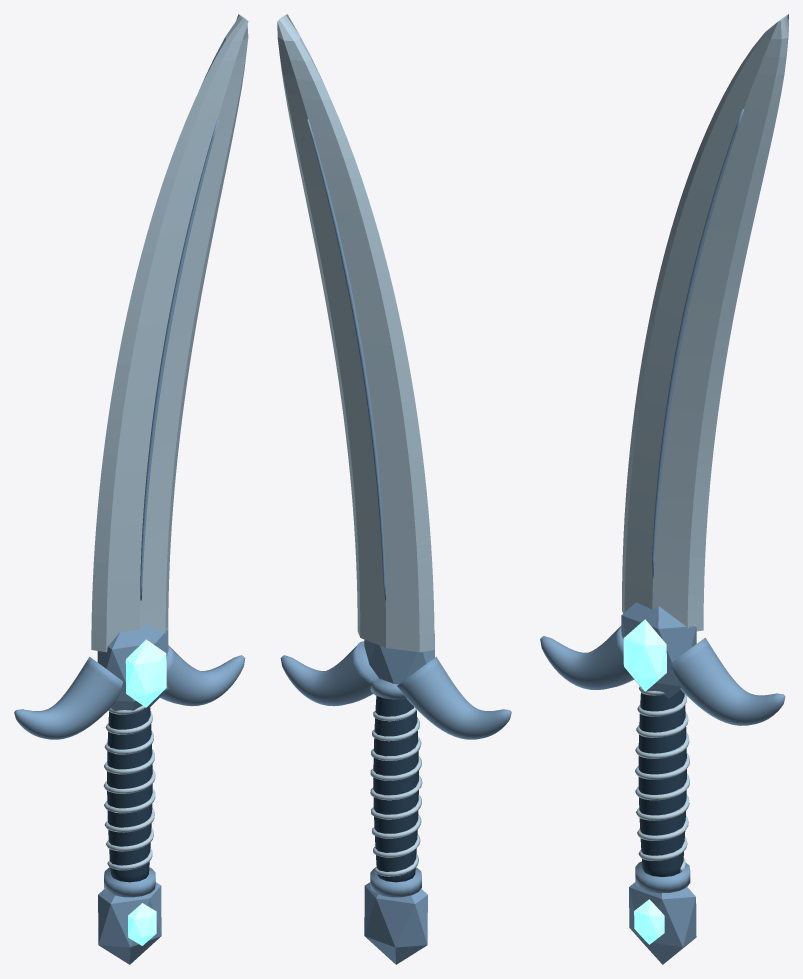
The model's file is frost_steel_saber.glb.
3 renders of one model, left to right at view 1: azimuth 30°, elevation 25°; view 2: azimuth 150°, elevation 25°; view 3: azimuth 330°, elevation 25°, orthographic. The views are drawn at different scales.
Parts seen in each view (by area): view 1: Froststeel Saber blade, Tapered leather grip.003, Swept guard wing.006, Faceted pommel.003, Swept guard wing.007, Helical grip binding.003, Guard socket.003, Guard gemstone.003, Curved fuller inlay.006, Pommel inset.003, Grip collar.006; view 2: Froststeel Saber blade, Tapered leather grip.003, Swept guard wing.006, Faceted pommel.003, Swept guard wing.007, Helical grip binding.003, Curved fuller inlay.007, Guard socket.003, Grip collar.006, Grip collar.007; view 3: Froststeel Saber blade, Tapered leather grip.003, Swept guard wing.007, Swept guard wing.006, Helical grip binding.003, Faceted pommel.003, Guard socket.003, Guard gemstone.003, Curved fuller inlay.006, Grip collar.006, Pommel inset.003.
Boxes of the visible parts, <box> form: Froststeel Saber blade: <box>91,14,248,652</box>; Tapered leather grip.003: <box>107,707,152,882</box>; Swept guard wing.006: <box>14,656,122,739</box>; Faceted pommel.003: <box>98,882,161,964</box>; Swept guard wing.007: <box>160,645,245,706</box>; Helical grip binding.003: <box>103,705,155,870</box>; Guard socket.003: <box>97,624,168,710</box>; Guard gemstone.003: <box>125,639,166,707</box>; Curved fuller inlay.006: <box>140,119,218,600</box>; Pommel inset.003: <box>128,903,156,945</box>; Grip collar.006: <box>104,867,155,897</box>; Froststeel Saber blade: <box>277,14,434,652</box>; Tapered leather grip.003: <box>373,696,418,882</box>; Swept guard wing.006: <box>397,656,511,739</box>; Faceted pommel.003: <box>364,882,427,964</box>; Swept guard wing.007: <box>280,641,378,706</box>; Helical grip binding.003: <box>370,707,422,876</box>; Curved fuller inlay.007: <box>307,119,385,600</box>; Guard socket.003: <box>364,634,434,684</box>; Grip collar.006: <box>370,867,421,897</box>; Grip collar.007: <box>370,678,406,699</box>; Froststeel Saber blade: <box>622,14,788,631</box>; Tapered leather grip.003: <box>638,689,686,877</box>; Swept guard wing.007: <box>670,637,785,725</box>; Swept guard wing.006: <box>540,626,633,689</box>; Helical grip binding.003: <box>635,686,689,872</box>; Faceted pommel.003: <box>629,882,696,964</box>; Guard socket.003: <box>621,602,696,698</box>; Guard gemstone.003: <box>623,619,666,691</box>; Curved fuller inlay.006: <box>651,109,744,578</box>; Grip collar.006: <box>635,861,690,893</box>; Pommel inset.003: <box>634,899,664,944</box>.
Bounding box in the file's own units: 1.39 × 5.25 × 0.3739.
